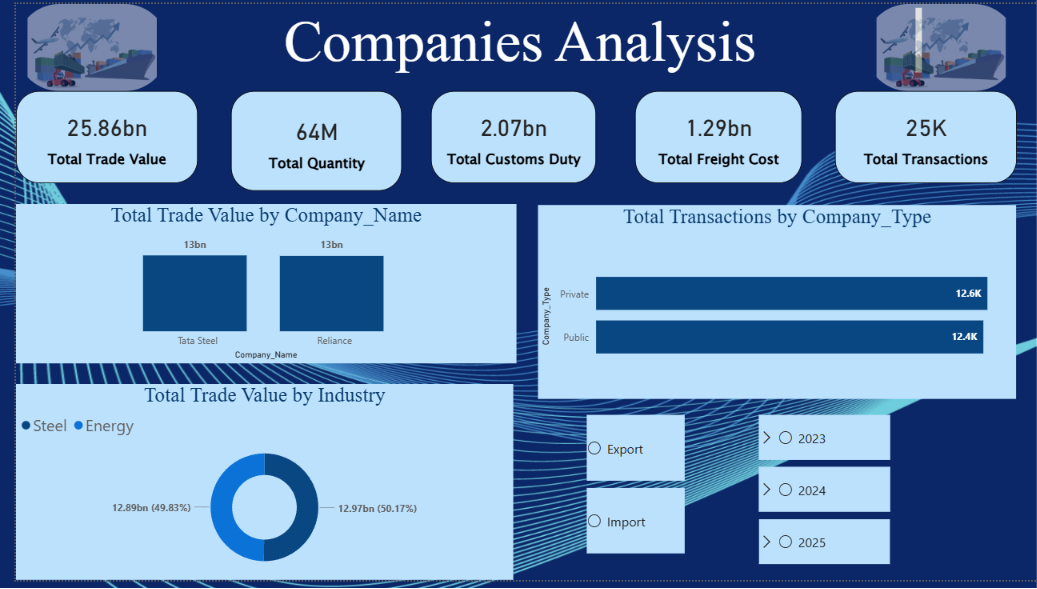

What the dashboard file says about the page in this screenshot:
{"tool":"powerbi","page":{"name":"Companies Analysis","canvas":[1280,720],"ordinal":3},"visuals":[{"type":"card","fields":{"Values":["Companies.Total Trade Value"]},"box":[0,108.8,227.4,114.9],"z":0},{"type":"card","fields":{"Values":["Companies.Total Quantity"]},"box":[269,108.8,214,124.7],"z":1000},{"type":"card","fields":{"Values":["Companies.Total Customs Duty"]},"box":[518.5,108.8,206.7,114.9],"z":2000},{"type":"card","fields":{"Values":["Companies.Total Freight Cost"]},"box":[774.1,108.8,209.1,114.9],"z":3000},{"type":"card","fields":{"Values":["Companies.Total Transactions"]},"box":[1023.5,108.8,227.4,114.9],"z":4000},{"type":"columnChart","fields":{"Category":["Companies.Company_Name"],"Y":["Companies.Total Trade Value"]},"box":[0,250.3,625.8,199.1],"z":5000},{"type":"donutChart","fields":{"Category":["Companies.Industry"],"Y":["Companies.Total Trade Value"]},"box":[0,475,621.5,244.6],"z":6000},{"type":"clusteredBarChart","fields":{"Category":["Companies.Company_Type"],"Y":["Companies.Total Transactions"]},"box":[653,250.7,598,242.1],"z":7000},{"type":"listSlicer","fields":{"Values":["Trade_Transactions_25000.Trade_Date.Variation.Date Hierarchy.Year","Trade_Transactions_25000.Trade_Date.Variation.Date Hierarchy.Quarter","Trade_Transactions_25000.Trade_Date.Variation.Date Hierarchy.Month","Trade_Transactions_25000.Trade_Date.Variation.Date Hierarchy.Day"]},"box":[923.4,493.4,174.6,226.5],"z":8000},{"type":"listSlicer","fields":{"Values":["Trade_Transactions_25000.Trade_Type"]},"box":[708.4,493.4,132.7,215],"z":9000},{"type":"textbox","box":[130,0,1007.5,91.2],"z":10000},{"type":"image","box":[0,0,190,108.8],"z":11000},{"type":"image","box":[1061.2,0,190,108.8],"z":12000}]}

Visuals, with their boxes in screenshot pixels (x1, y1, x2, y2), scaled from the page's 1280x720 canvas onto the 1037x589 screenshot:
card - Companies.Total Trade Value: l=0, t=89, r=184, b=183
card - Companies.Total Quantity: l=218, t=89, r=391, b=191
card - Companies.Total Customs Duty: l=420, t=89, r=588, b=183
card - Companies.Total Freight Cost: l=627, t=89, r=797, b=183
card - Companies.Total Transactions: l=829, t=89, r=1013, b=183
columnChart - Companies.Company_Name x Companies.Total Trade Value: l=0, t=205, r=507, b=368
donutChart - Companies.Industry x Companies.Total Trade Value: l=0, t=389, r=504, b=588
clusteredBarChart - Companies.Company_Type x Companies.Total Transactions: l=529, t=205, r=1014, b=403
listSlicer - Trade_Transactions_25000.Trade_Date.Variation.Date Hierarchy.Year x Trade_Transactions_25000.Trade_Date.Variation.Date Hierarchy.Quarter: l=748, t=404, r=890, b=588
listSlicer - Trade_Transactions_25000.Trade_Type: l=574, t=404, r=681, b=580
textbox: l=105, t=0, r=922, b=75
image: l=0, t=0, r=154, b=89
image: l=860, t=0, r=1014, b=89
